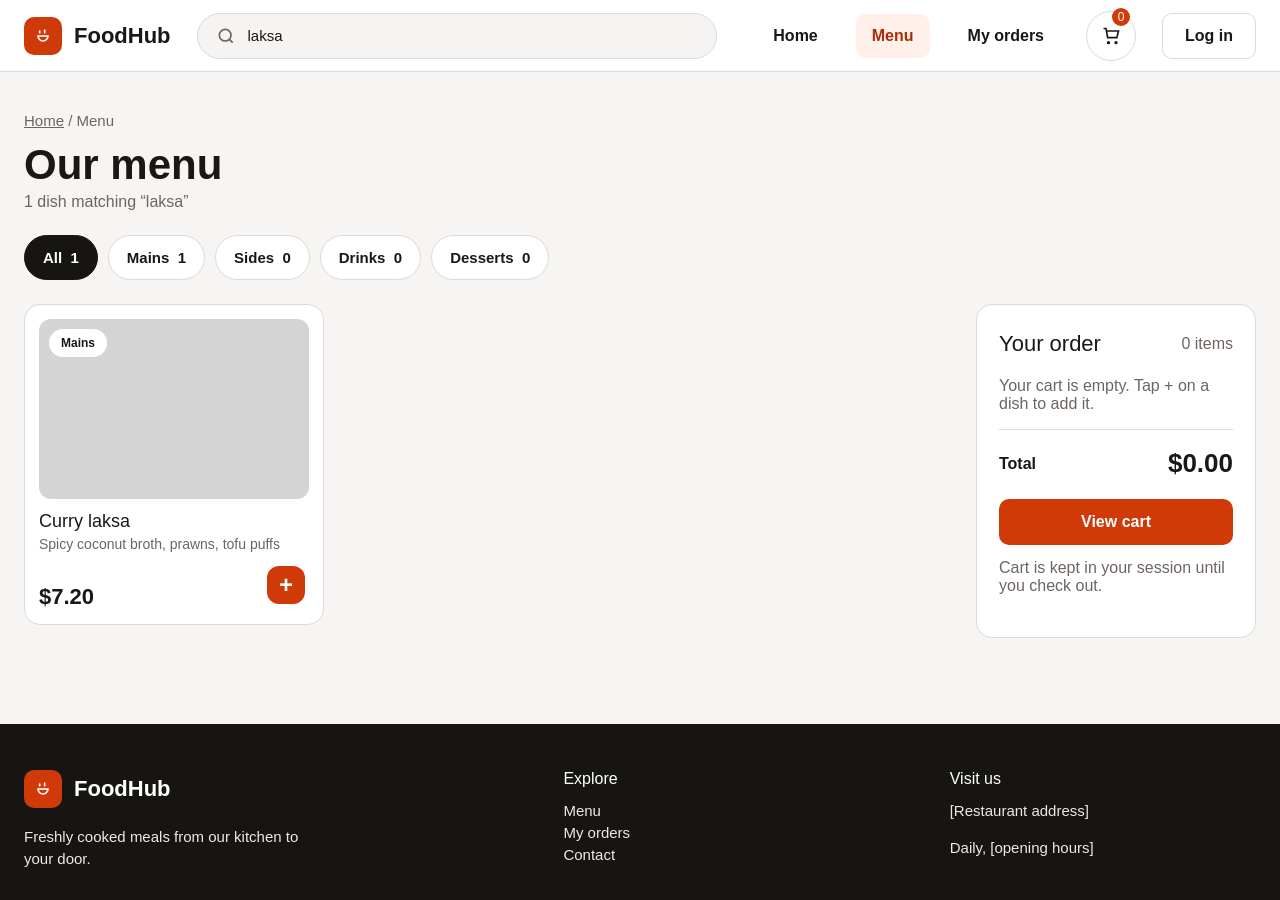
Menu › guest pressing + is sent to the login page
Click the button named "Add Curry laksa to cart" at (286, 585), box [267,566,305,604]
(page scrolled)
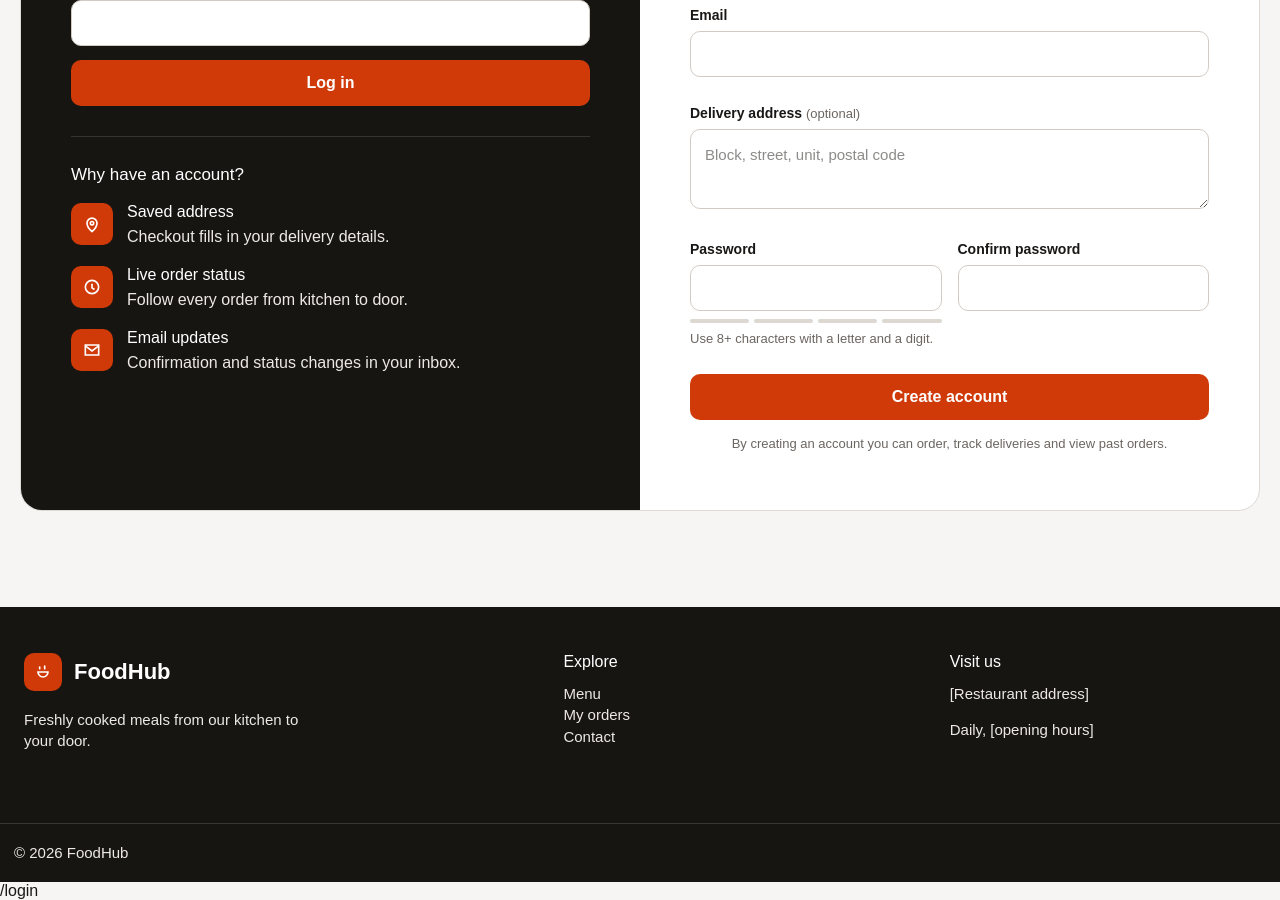
Now the text with test id "where" reads "/login", box [0,882,38,899]
